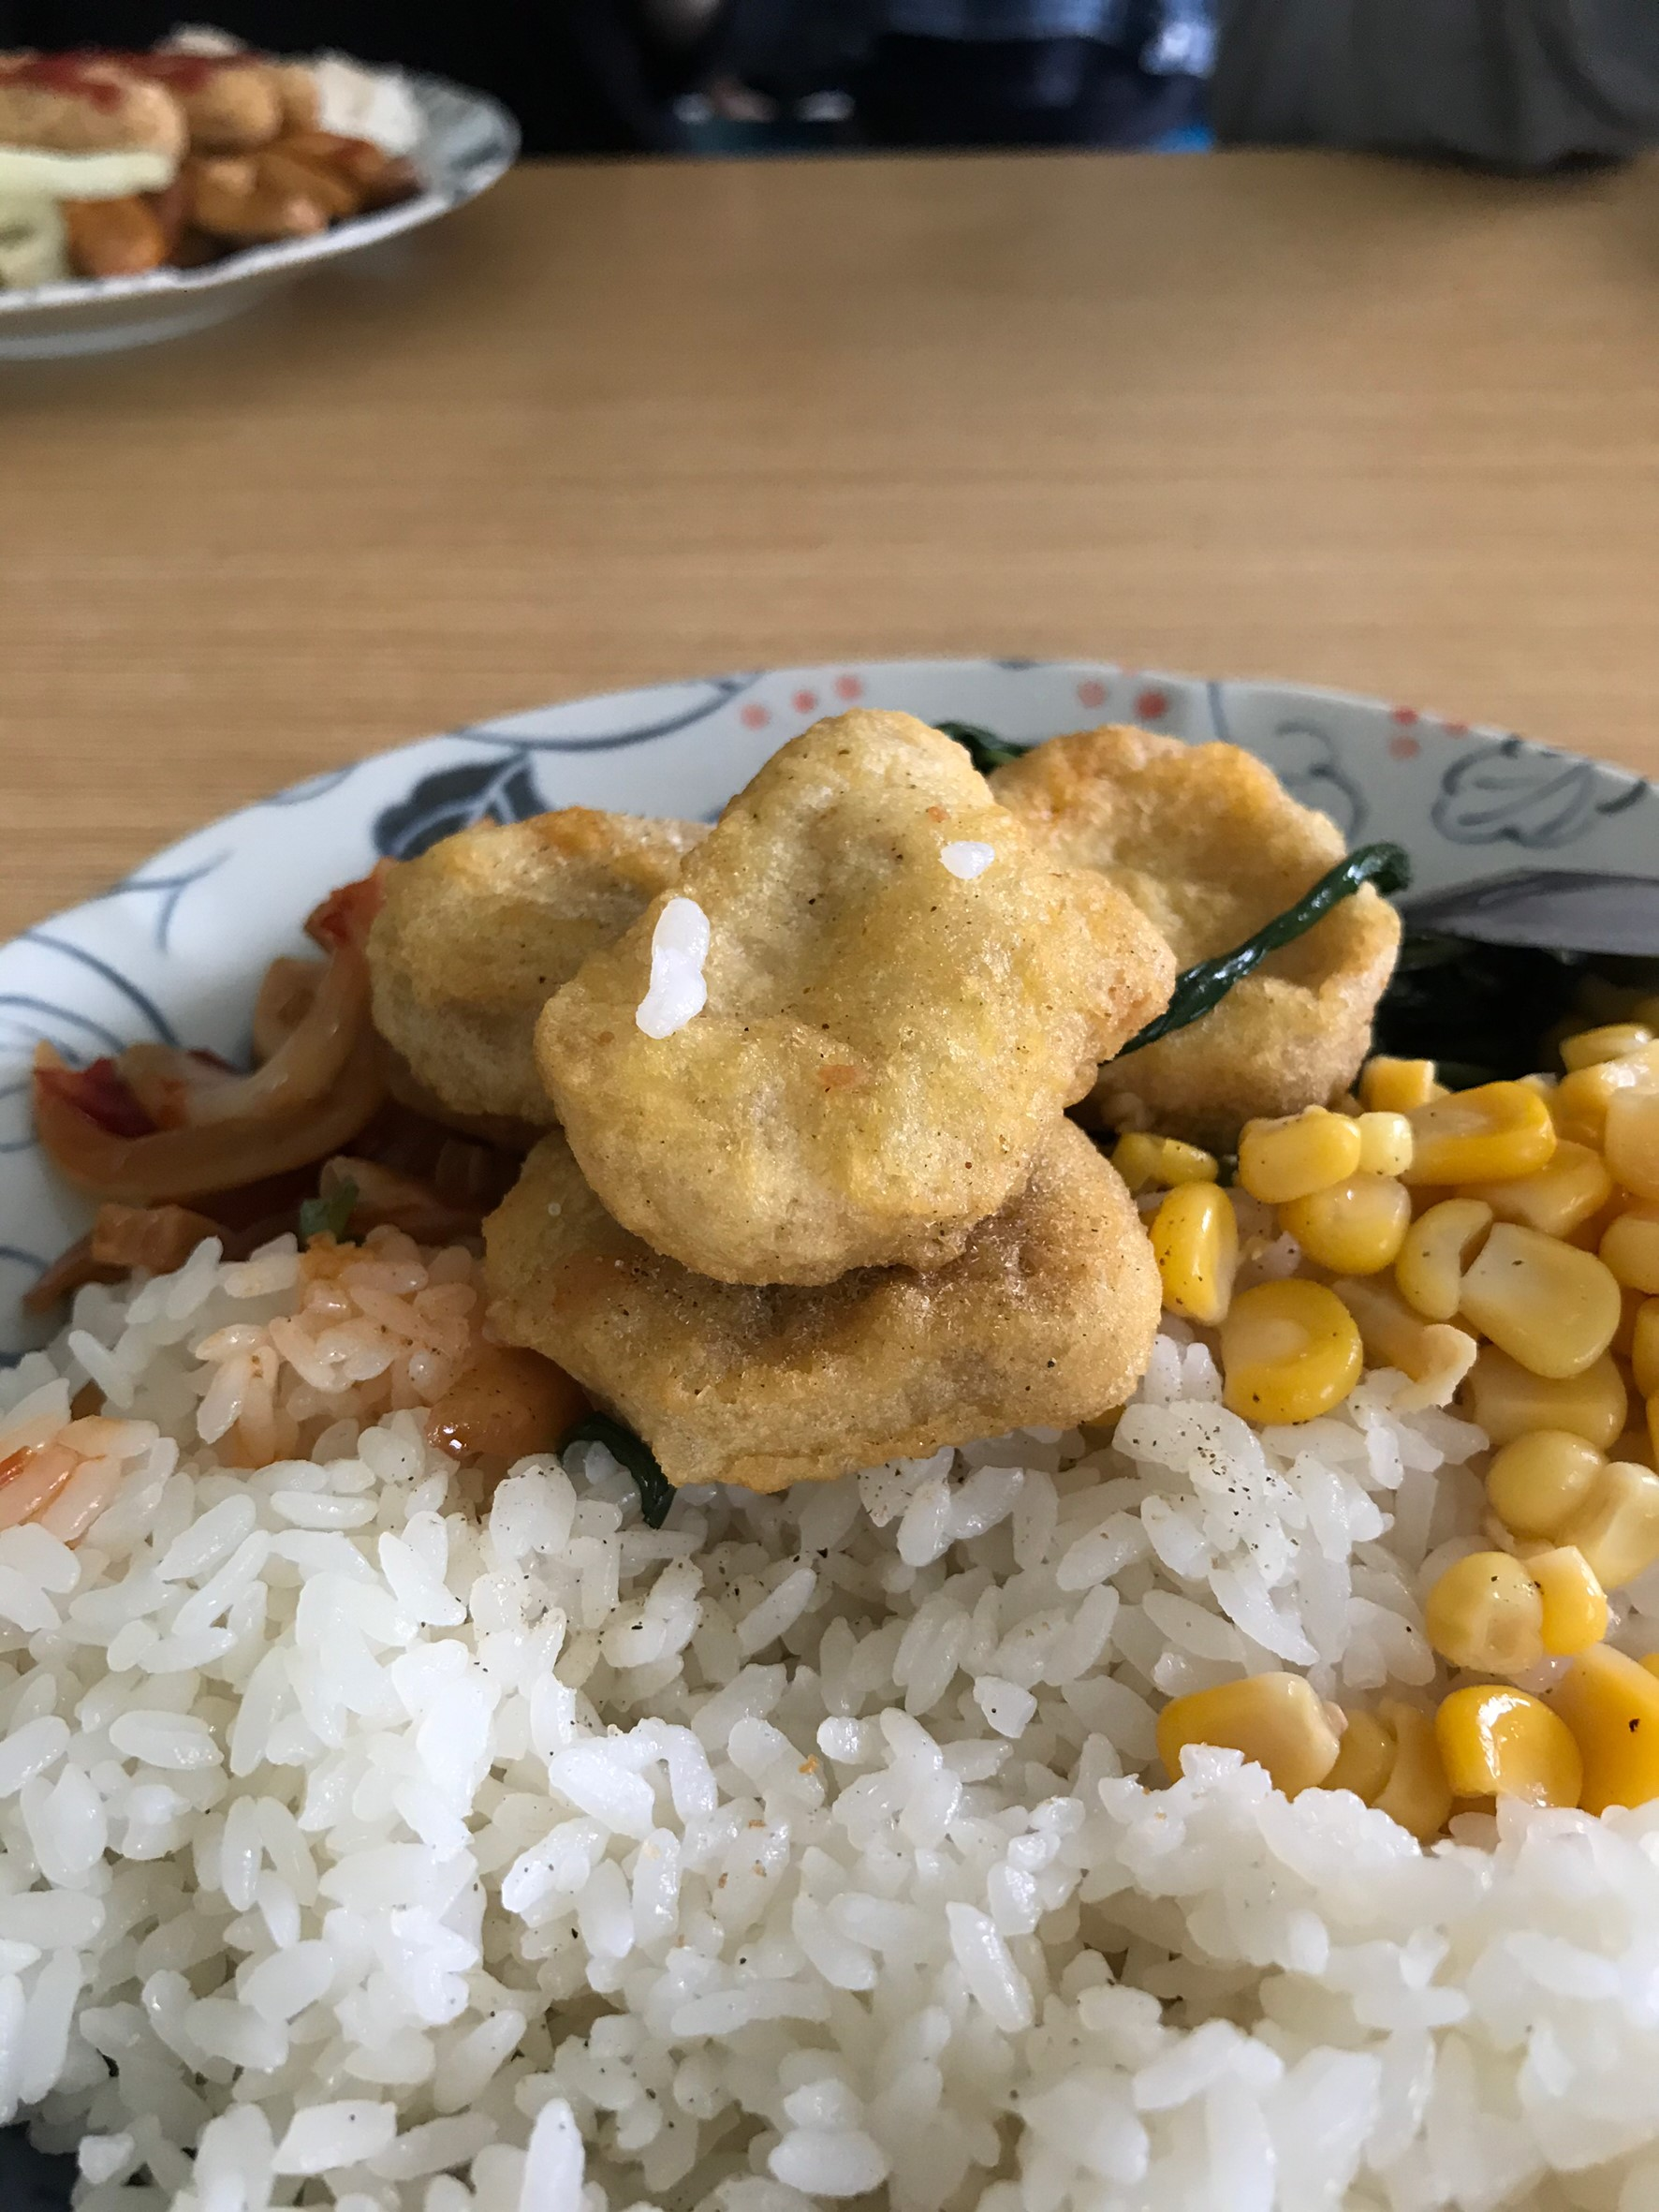chicken_nuggets: (383, 699, 1384, 1469)
rice: (2, 1267, 1640, 2212)
